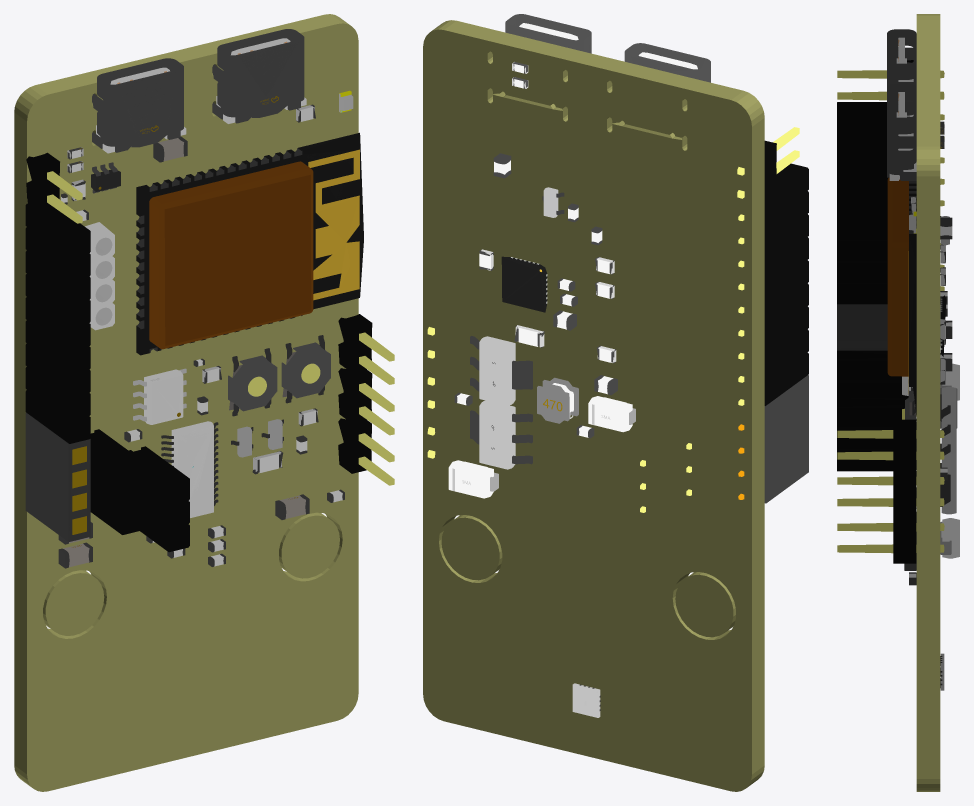
Rendered from OBJ_PCB_SCore SR1.obj.
3 views of the same model, side by side, from view 1: azimuth 30°, elevation 25°; view 2: azimuth 150°, elevation 25°; view 3: azimuth 270°, elevation 25° (orthographic). The views are drawn at different scales.
Size of the model in its own units: 150 by 302 by 51.73.
